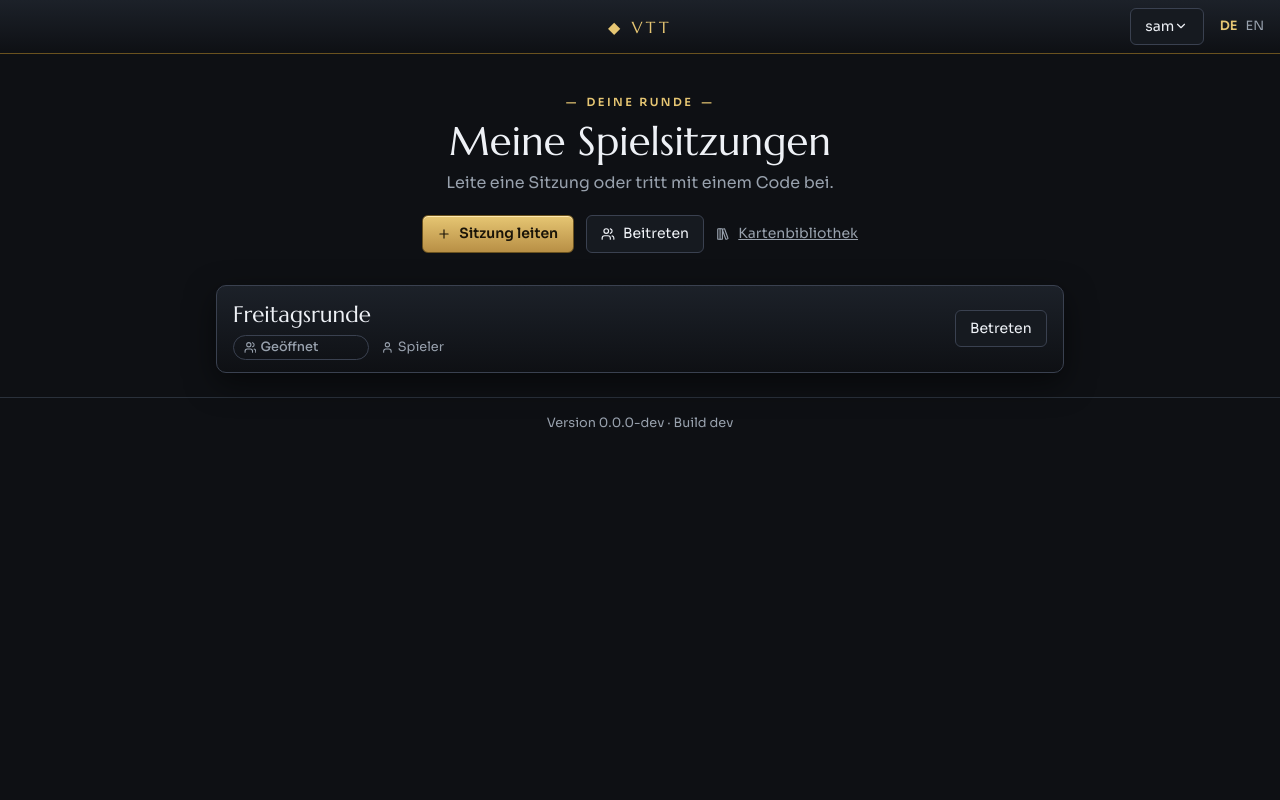
Test: Entfernte Anmerkung wird gemeldet
Check: the heading "Freitagsrunde" is shown, box [233,300,371,328]
Step 1. Click the button "Betreten" → (1001,328), box [955,310,1047,347]
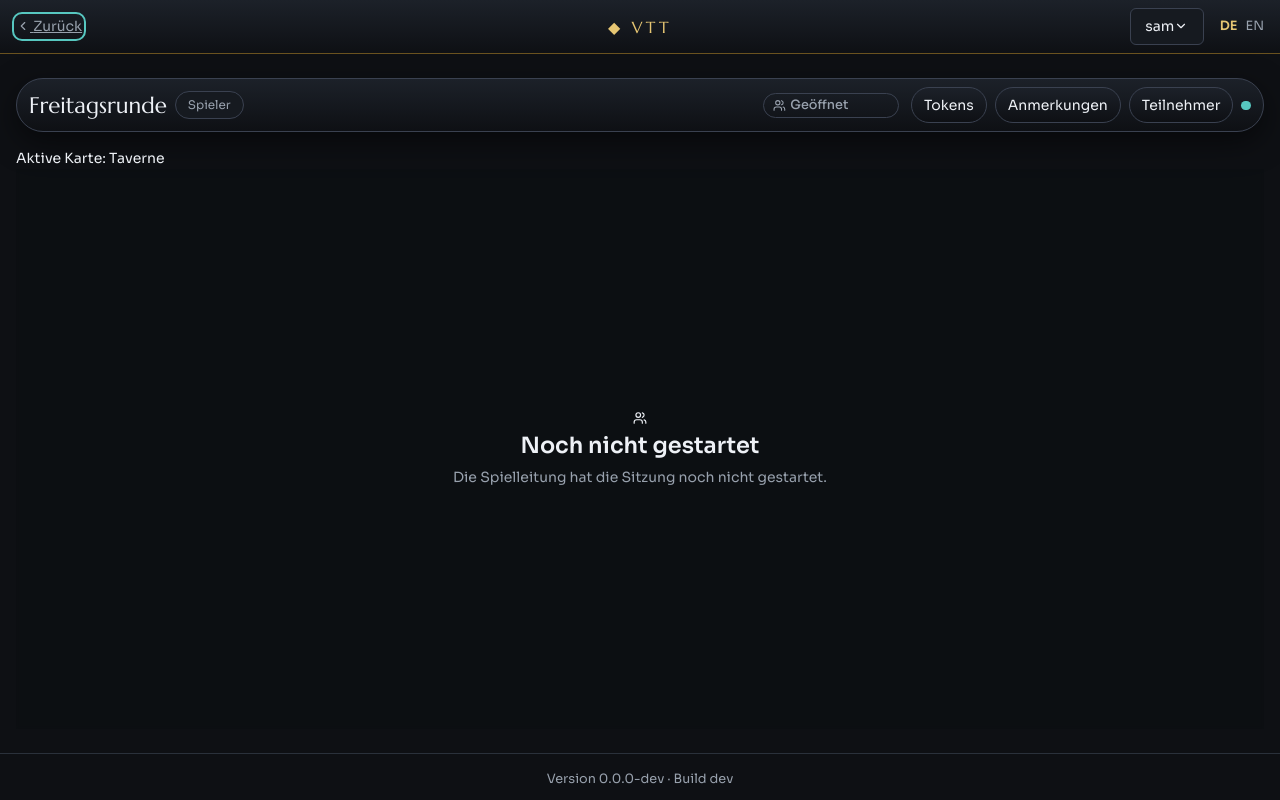
Step 2. Click the button "Anmerkungen" → (1058,105), box [995,87,1121,123]
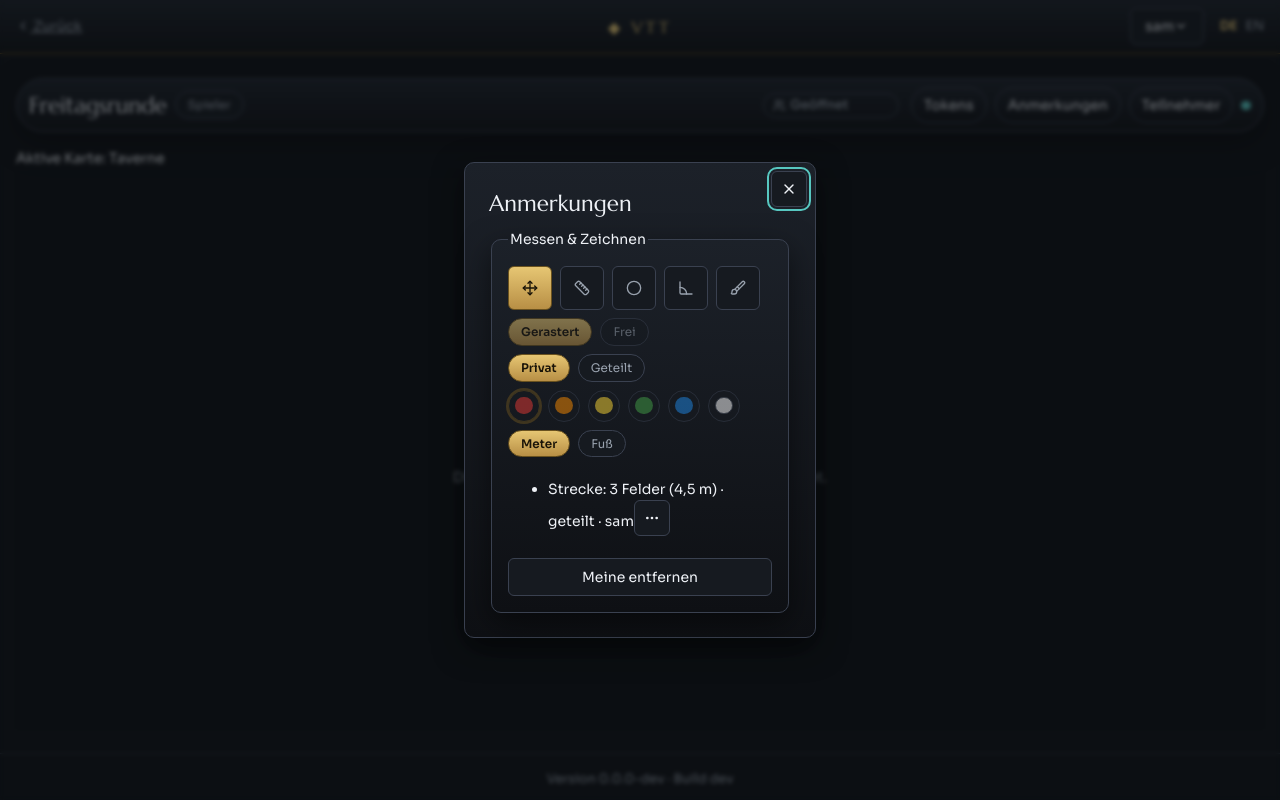
Check: the dialog "Anmerkungen" is shown, box [464,162,816,638]
Check: the element "Messen & Zeichnen" is shown, box [491,229,789,613]
Step 3. Click the button named "Aktionen für Strecke: 3 Felder (4,5 m) · geteilt · sam" → (652,518), box [634,500,670,536]
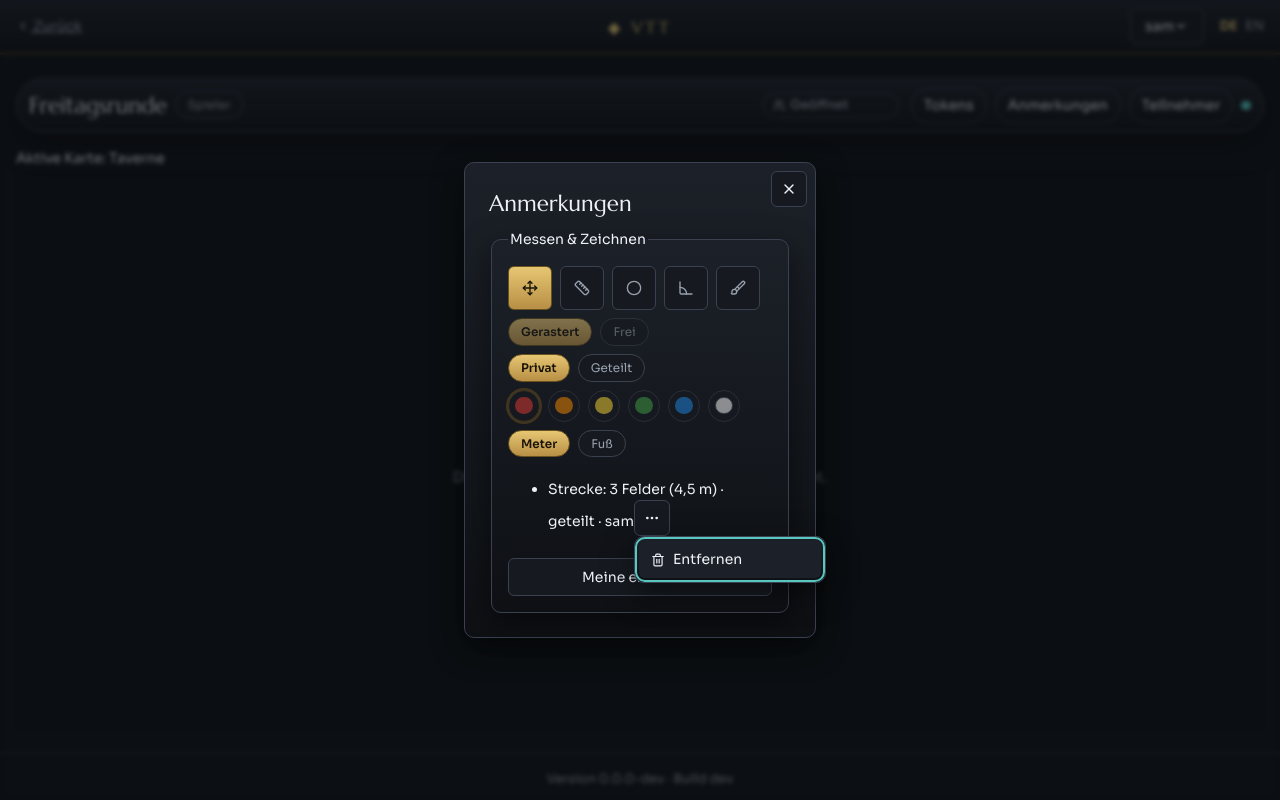
Step 4. Click the menu item "Entfernen" → (730,560), box [639,541,821,578]
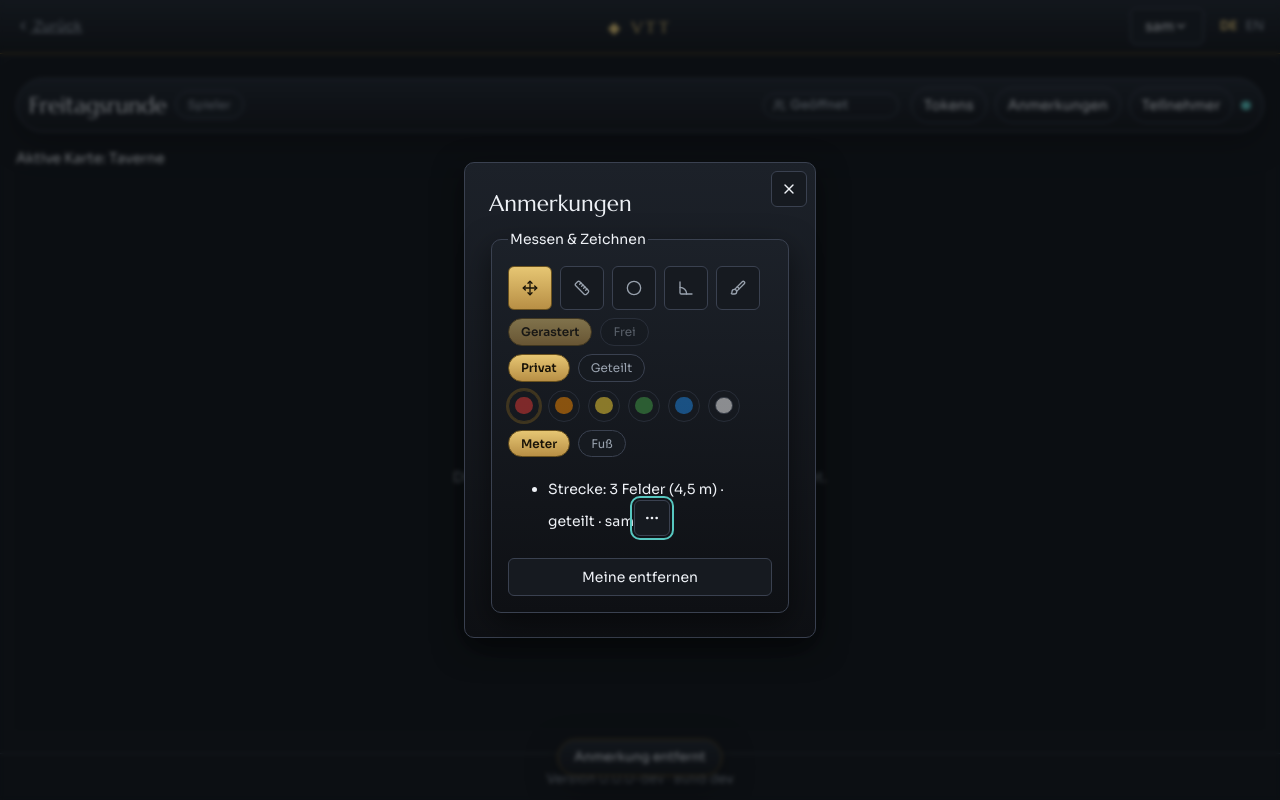
Check: the text "Anmerkung entfernt" is shown, box [557,739,723,776]
